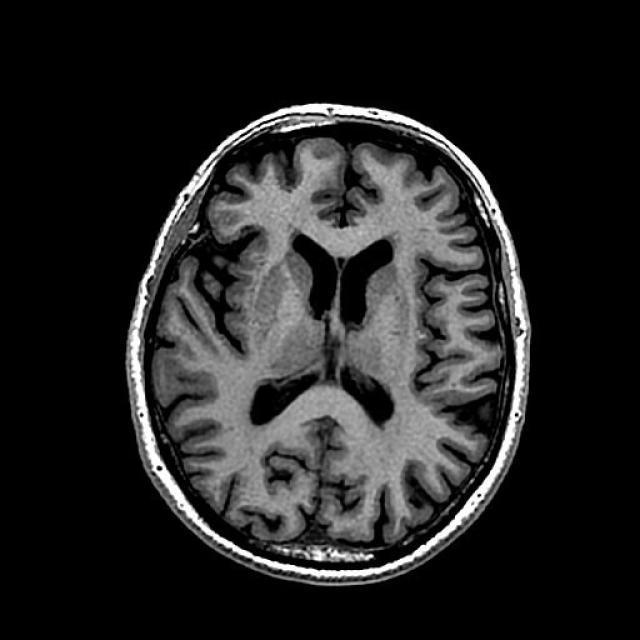No_Tumor: (127, 104, 529, 584)
